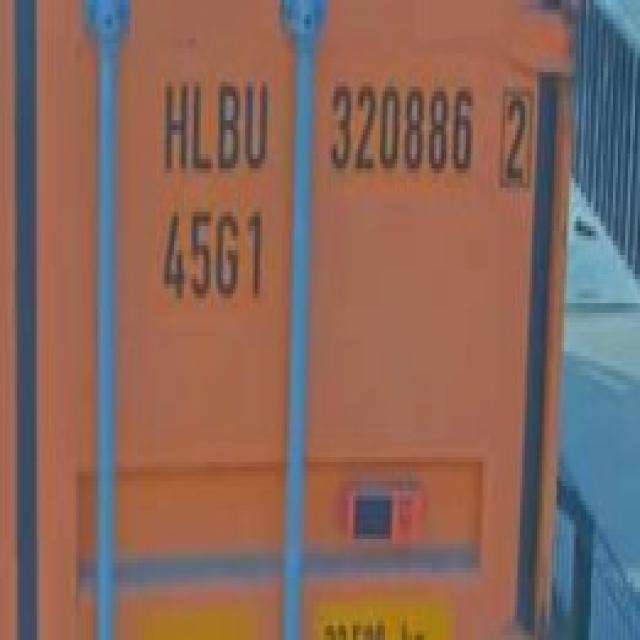dv: (492, 77, 537, 194)
owner: (154, 71, 270, 175)
serial: (319, 73, 475, 183)
size: (156, 197, 268, 319)
